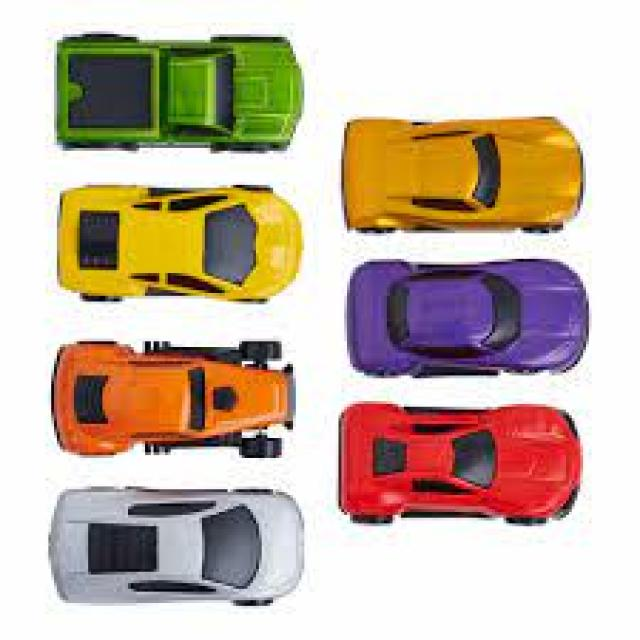Car: (51, 489, 302, 603), (57, 185, 299, 299), (341, 117, 580, 228), (347, 262, 586, 373)
